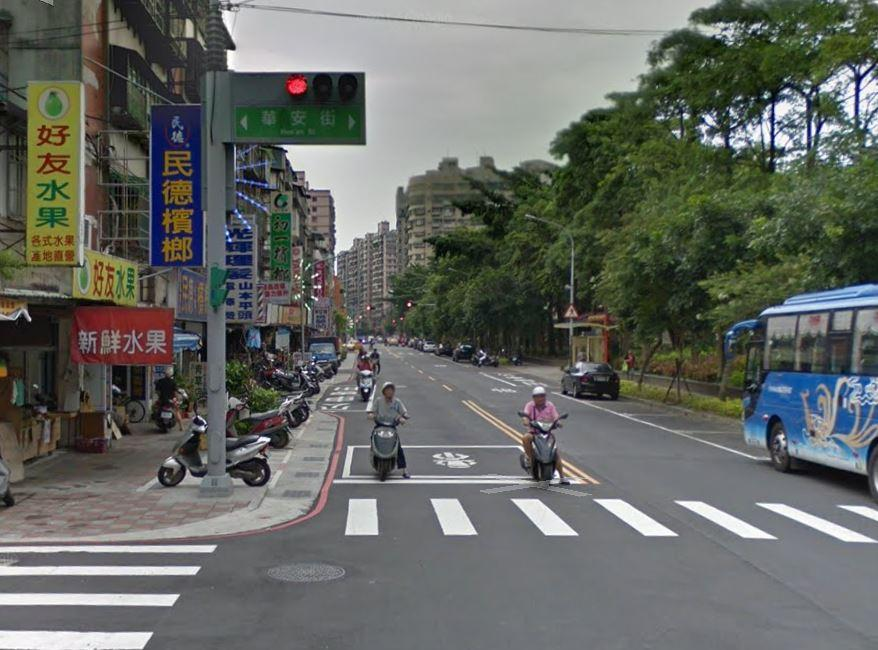red_traffic_light: (284, 70, 360, 100)
